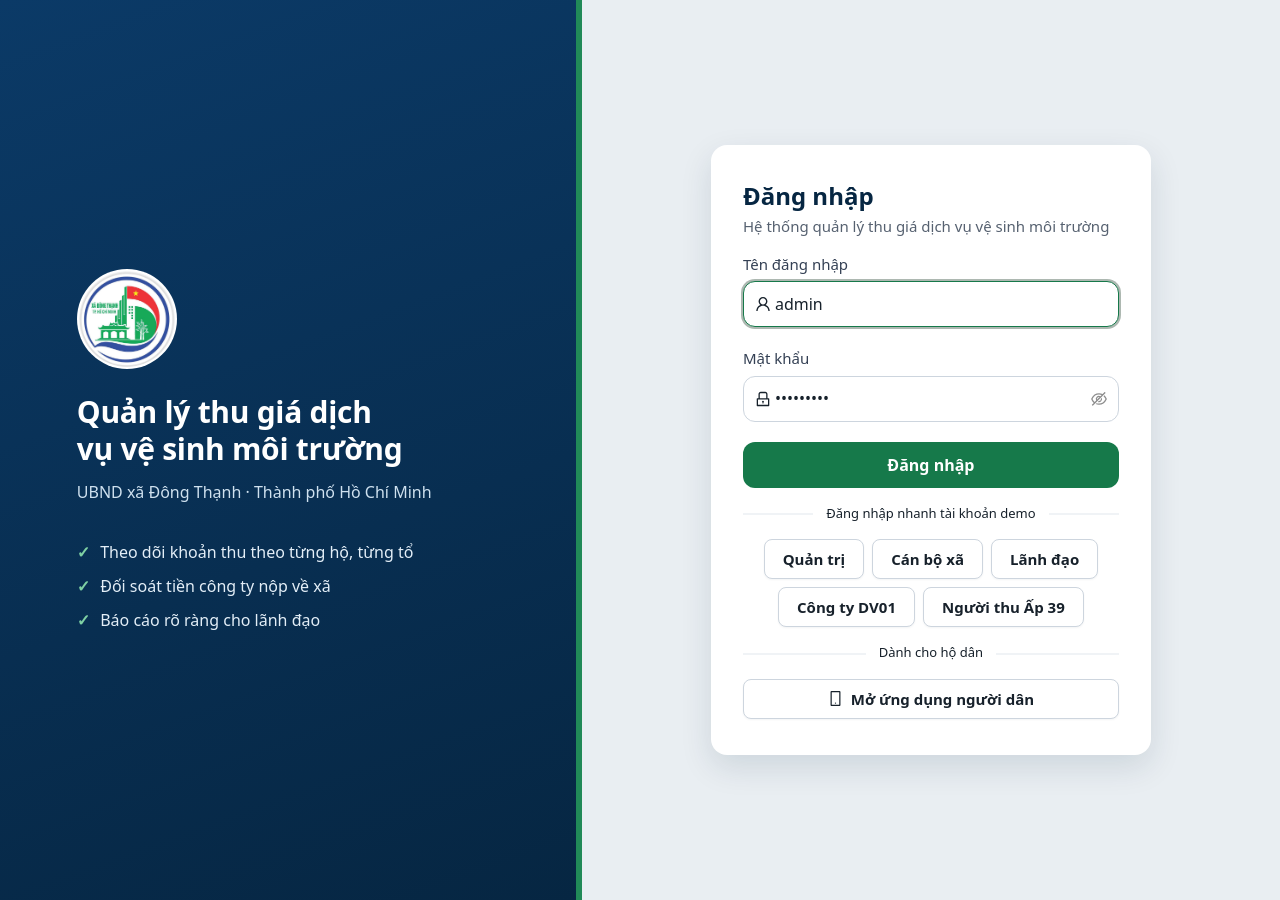
đăng nhập › sai mật khẩu hiện thông báo tiếng Việt từ máy chủ và không lưu token
The width and height of the screenshot is (1280, 900).
Replace the text in the field labelled "Tên đăng nhập" with "canbo_xa". click: (941, 304)
box: 775,293 -> 1107,316
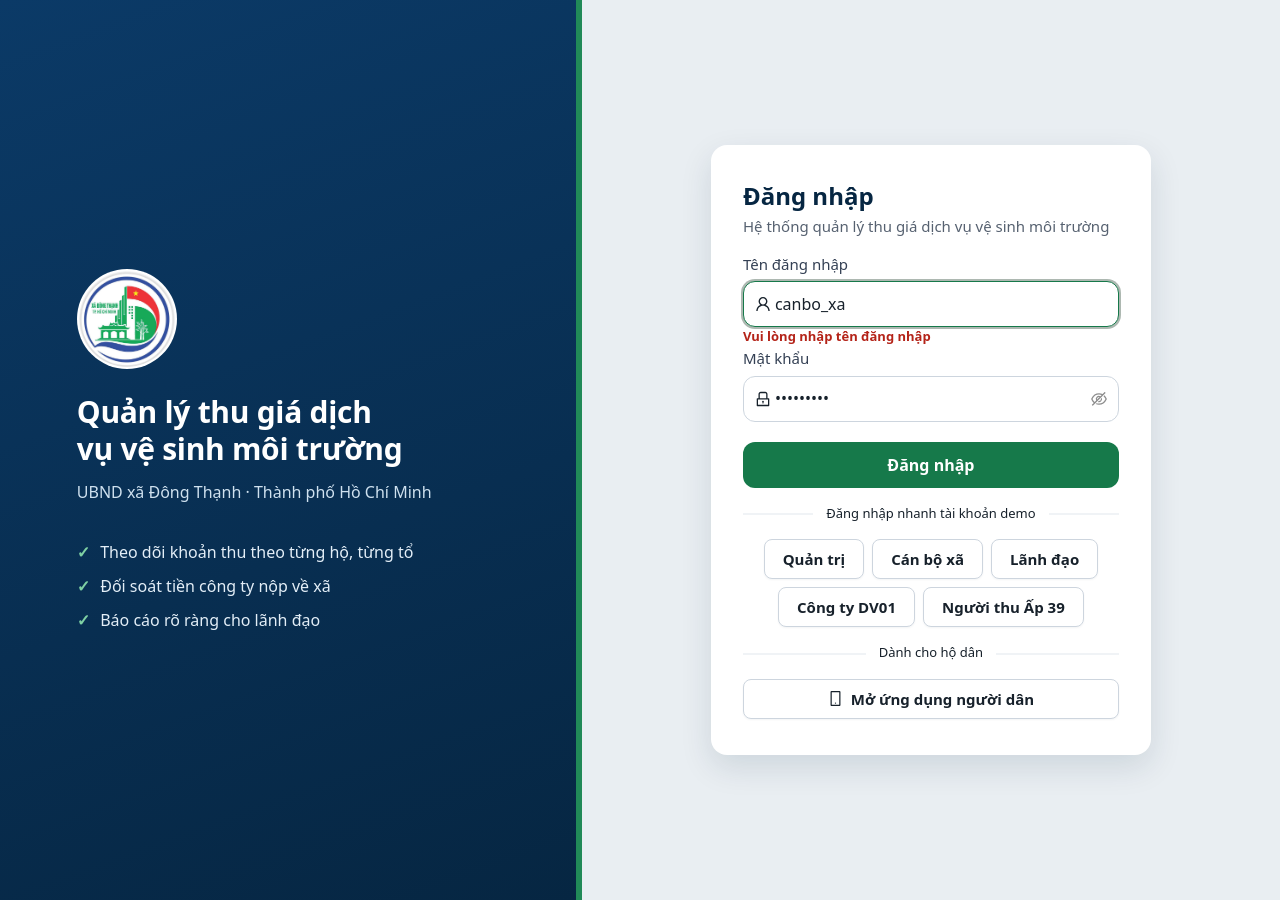
Type "sai" into the password field labelled "Mật khẩu". click: (931, 399)
box: 775,387 -> 1087,410
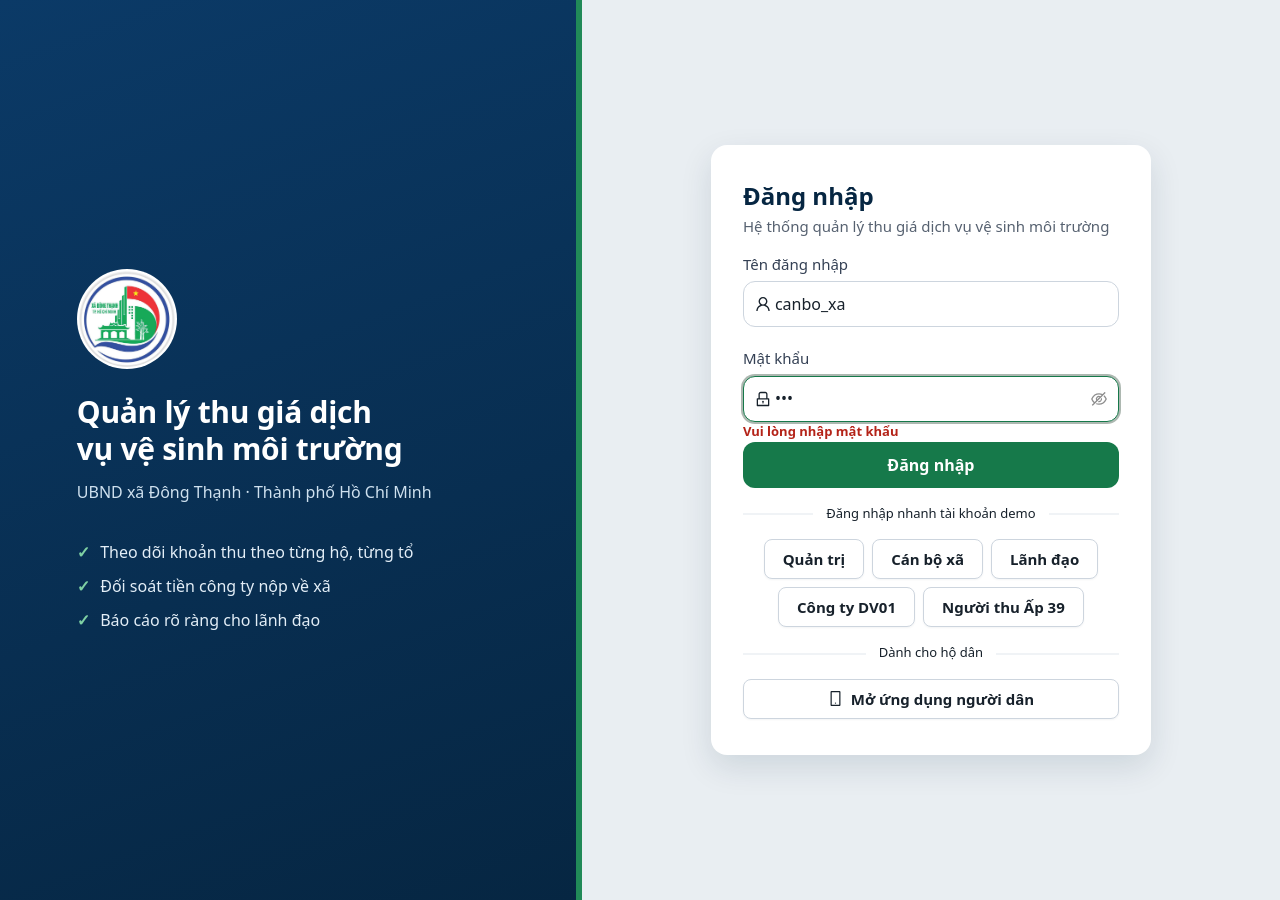
Click the button "Đăng nhập". click: click(931, 465)
box: 743,442 -> 1119,488
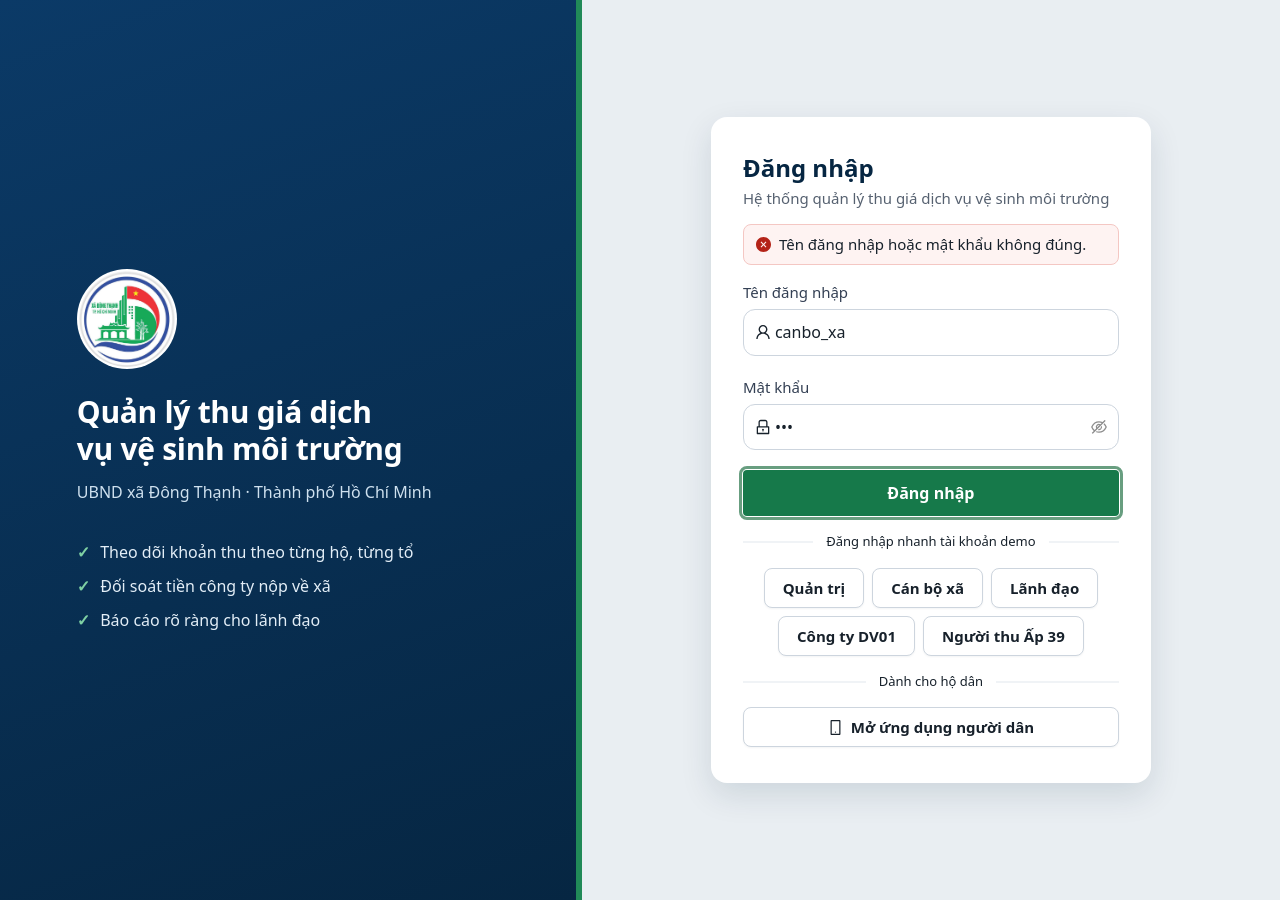
Expected: the message reads "Tên đăng nhập hoặc mật khẩu không đúng.", 779,234 -> 1086,254
